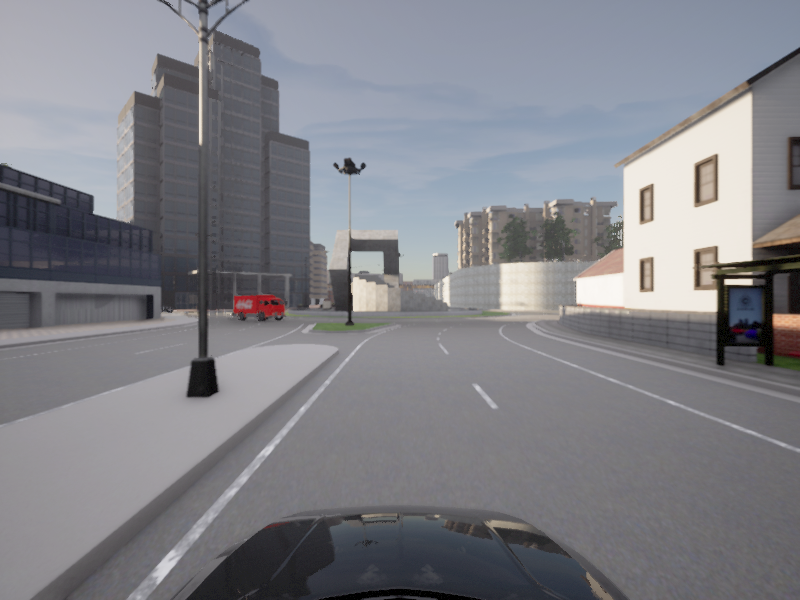vehicle: (0, 0, 799, 462), (230, 294, 290, 322)
